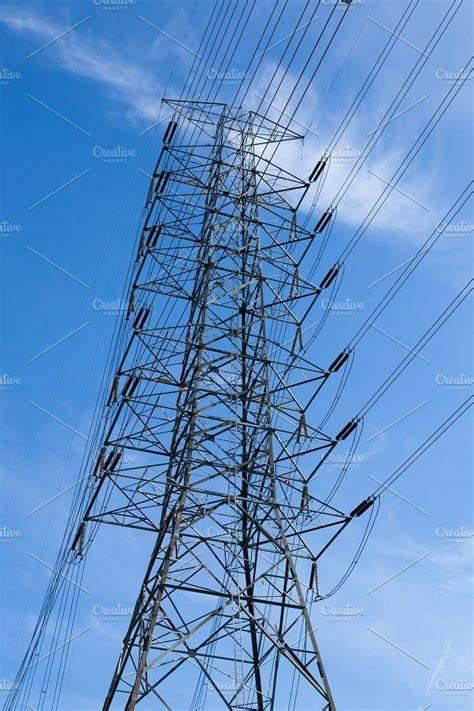power_tower: (86, 80, 360, 711)
